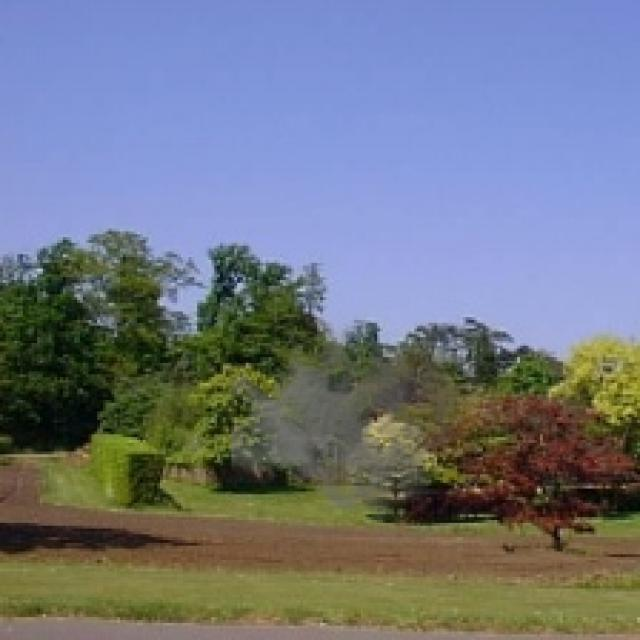Smoke: (231, 317, 466, 523)
